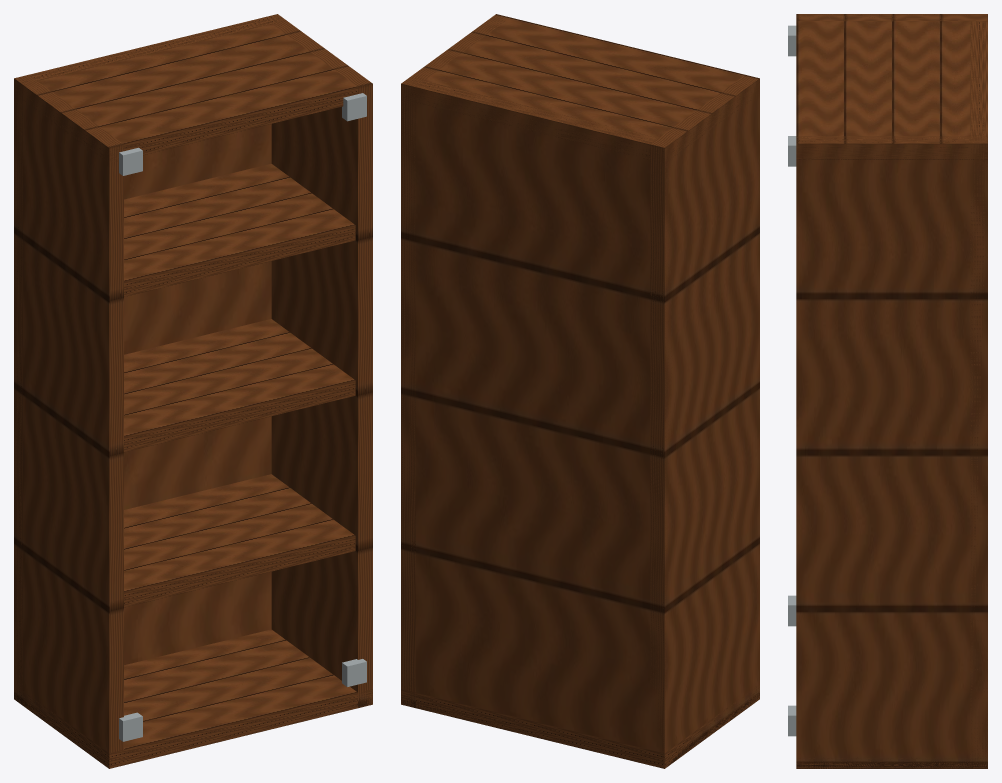
The model's file is suburban-outbreak-interiors-linen-cupboard-carcass-b2770c0c__19979.glb.
The picture shows the model from 3 angles, left to right: view 1: azimuth 30°, elevation 25°; view 2: azimuth 150°, elevation 25°; view 3: azimuth 270°, elevation 25°; orthographic projection.
Parts seen in each view (by area): view 1: linen-cupboard-carcass; view 2: linen-cupboard-carcass; view 3: linen-cupboard-carcass.
Boxes of the visible parts, x1,y1,x2,y2 form: linen-cupboard-carcass: [14, 14, 372, 768]; linen-cupboard-carcass: [401, 14, 759, 768]; linen-cupboard-carcass: [788, 14, 987, 768].
Size of the model in its own units: 0.7999 by 1.8 by 0.521.
2 materials, 1 textured.
